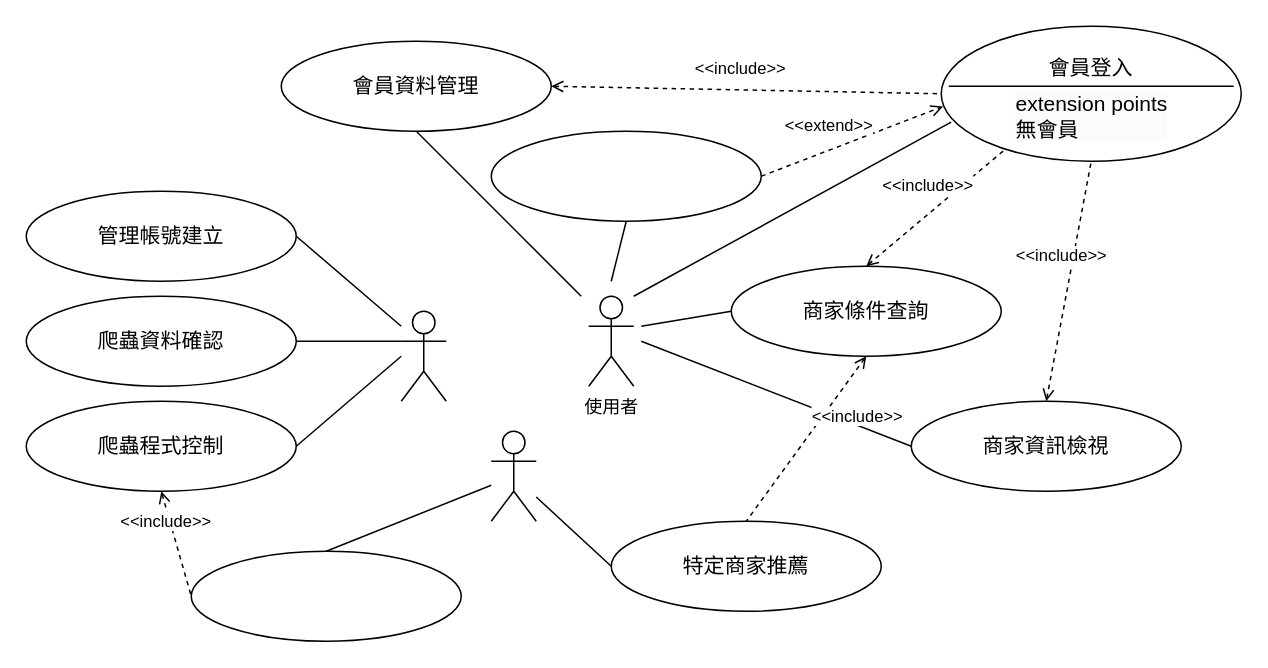
Image size: 1268x668. Some labels were removed from this diagram. Each missing label, with the centre of its shape:
"會員註冊" belongs at point (625, 175).
"爬蟲程式執行" belongs at point (325, 595).
"管理者" belongs at point (423, 355).
"系統" belongs at point (513, 475).
